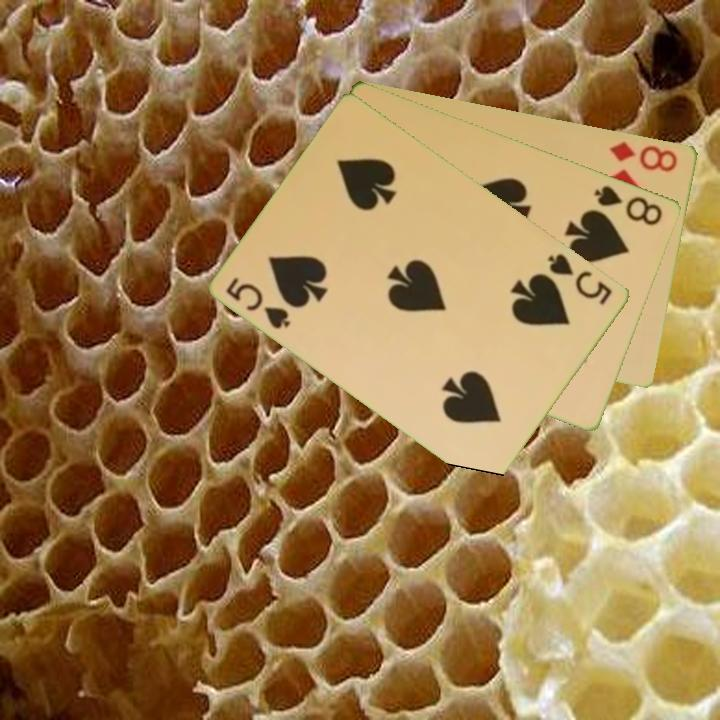5s: (223, 273, 295, 333), (544, 250, 616, 308)
8d: (607, 137, 681, 175)
8s: (591, 181, 666, 228)
